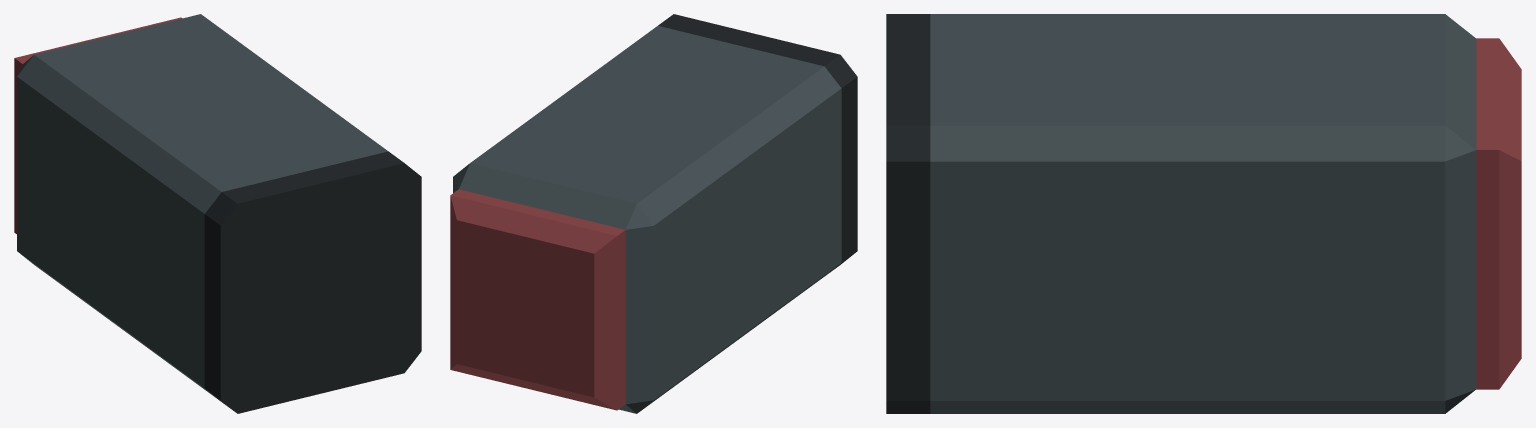
File: Bar Stool 01.FBX
3 views of the same model, side by side, from view 1: azimuth 30°, elevation 25°; view 2: azimuth 150°, elevation 25°; view 3: azimuth 270°, elevation 25° (orthographic). The views are drawn at different scales.
Parts seen in each view (by area): view 1: Bar Stool 01; view 2: Bar Stool 01; view 3: Bar Stool 01.
Boxes of the visible parts, x1=… form: Bar Stool 01: x1=14, y1=14, x2=421, y2=413; Bar Stool 01: x1=450, y1=14, x2=857, y2=413; Bar Stool 01: x1=886, y1=14, x2=1521, y2=413.
Size of the model in its own units: 37 by 37 by 73.86.
Materials: 1 (1 with a texture image).
